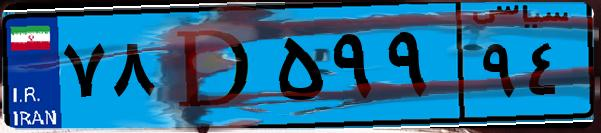4: (525, 38, 570, 115)
5: (270, 28, 330, 110)
7: (57, 26, 110, 100)
8: (110, 28, 158, 98)
9: (385, 28, 445, 110), (330, 28, 385, 110), (475, 38, 525, 113)
D: (158, 12, 270, 120)
